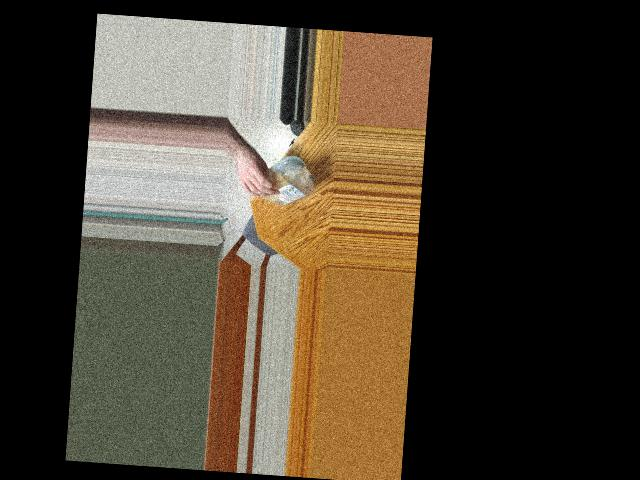cheese: (249, 154, 318, 211)
